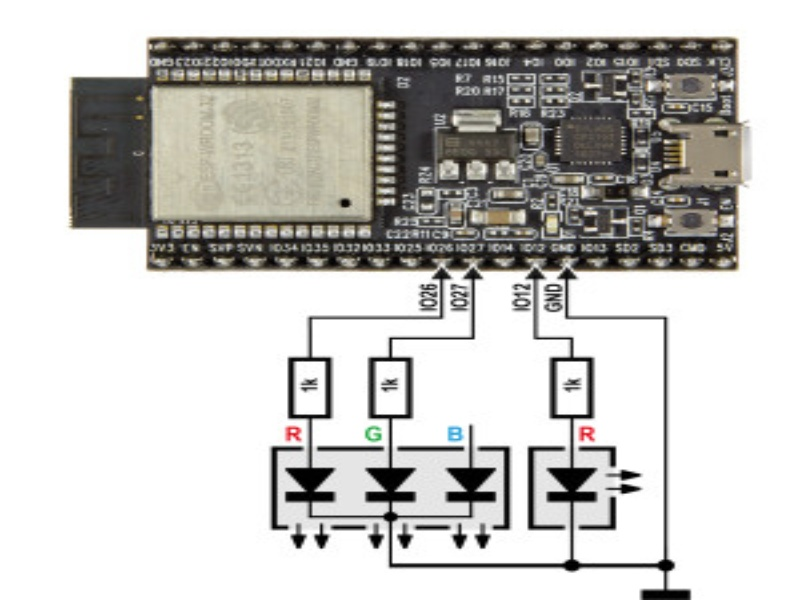esp32: (52, 19, 748, 288)
